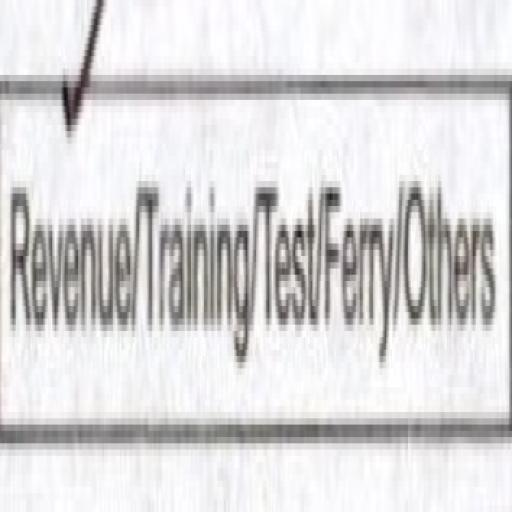check: (0, 0, 130, 475)
